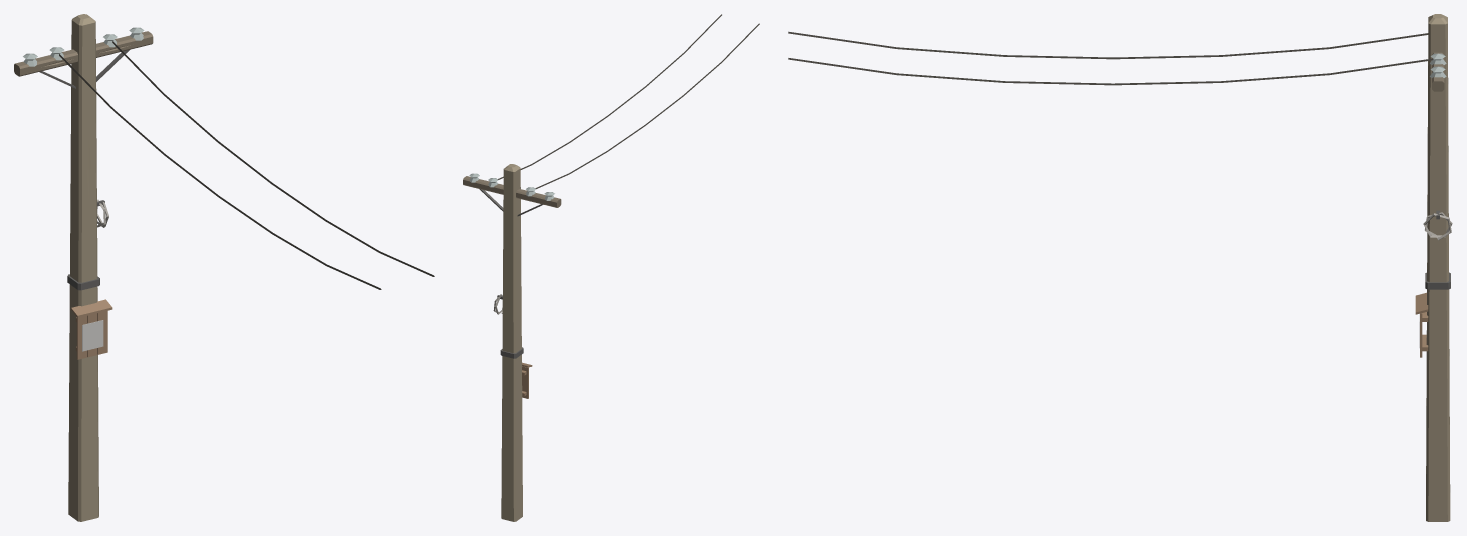
The model's file is flag.glb.
3 renders of one model, left to right at view 1: azimuth 30°, elevation 25°; view 2: azimuth 150°, elevation 25°; view 3: azimuth 270°, elevation 25°, orthographic. The views are drawn at different scales.
Parts seen in each view (by area): view 1: flag; view 2: flag; view 3: flag.
Part boxes in pixels (x1=…): flag: x1=14, y1=14, x2=434, y2=521; flag: x1=463, y1=14, x2=759, y2=521; flag: x1=788, y1=14, x2=1452, y2=521.
Bounding box in the file's own units: 1.9 × 6.8 × 8.18.
